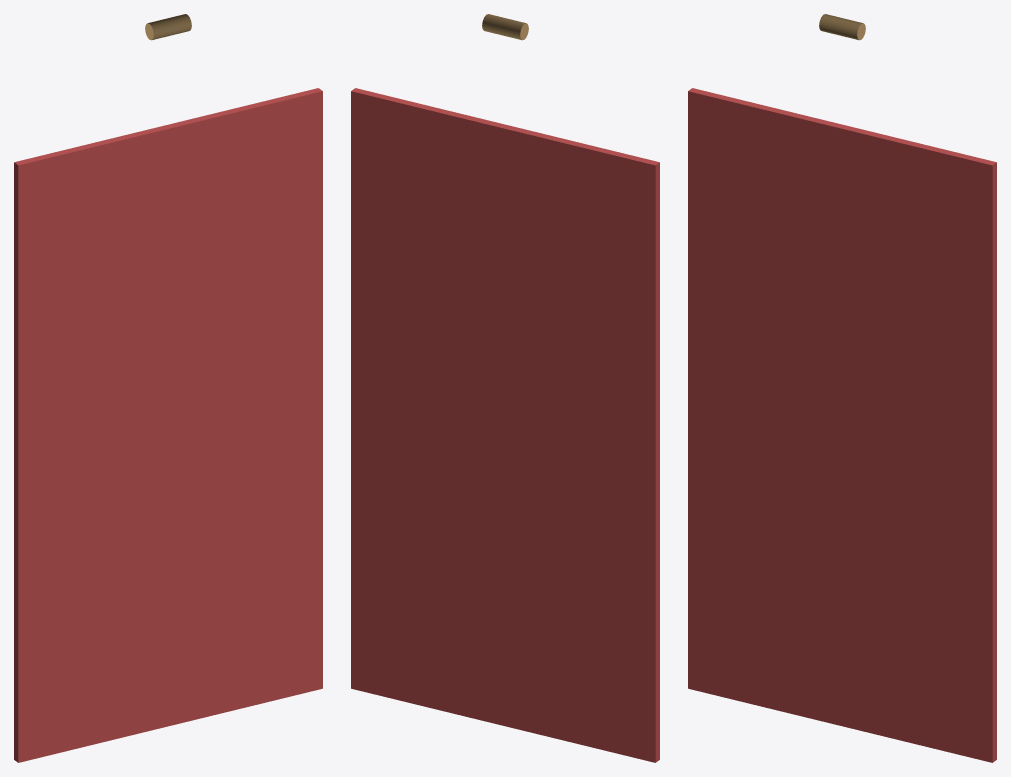
File: env-med-banner.glb
3 views of the same model, side by side, from view 1: azimuth 30°, elevation 25°; view 2: azimuth 150°, elevation 25°; view 3: azimuth 330°, elevation 25° (orthographic).
Size of the model in its own units: 0.8 by 1.77 by 0.04.
